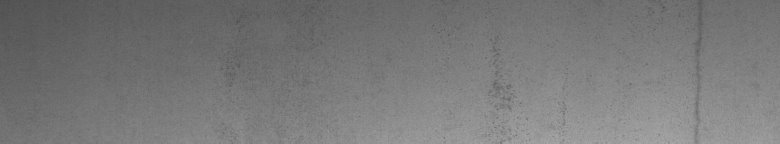ib: (485, 47, 566, 136)
